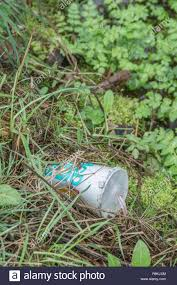cup: (46, 162, 130, 218)
